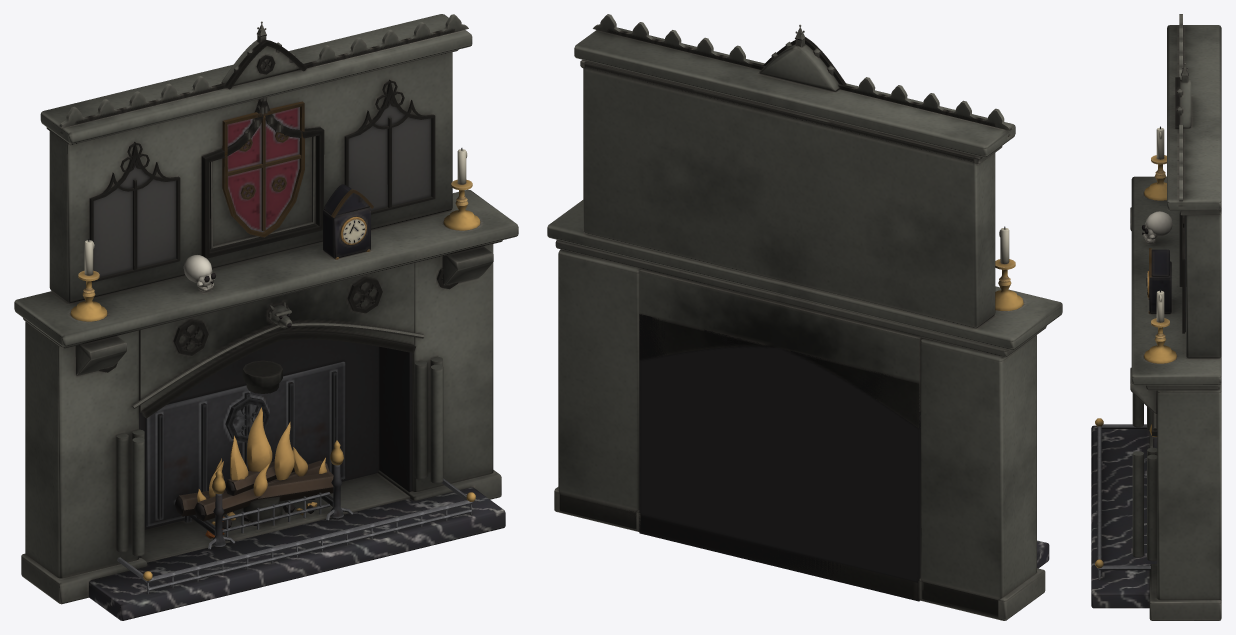
Rendered from Fireplace.fbx.
The picture shows the model from 3 angles, left to right: view 1: azimuth 30°, elevation 25°; view 2: azimuth 150°, elevation 25°; view 3: azimuth 270°, elevation 25°; orthographic projection. The views are drawn at different scales.
Parts seen in each view (by area): view 1: Fireplace_Main, Fireplace_Glow; view 2: Fireplace_Main; view 3: Fireplace_Main.
Part boxes in pixels (x1,y1,x2,y2): Fireplace_Main: (14, 14, 518, 620); Fireplace_Glow: (197, 407, 327, 525); Fireplace_Main: (547, 14, 1062, 620); Fireplace_Main: (1091, 14, 1221, 620).
Bounding box in the file's own units: 735 × 793 × 203.
